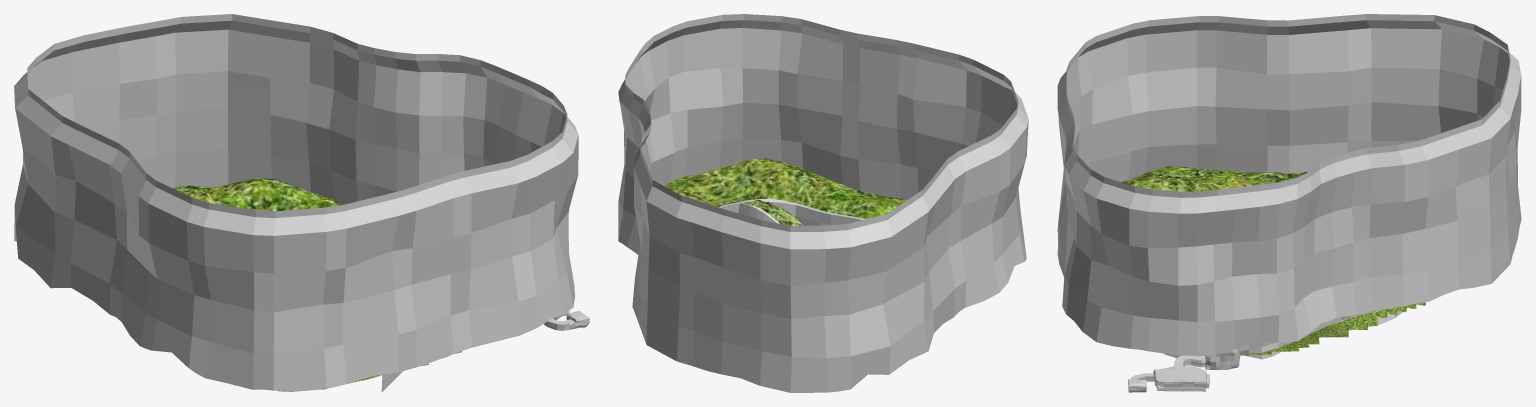
File: bigmapR.fbx
3 renders of one model, left to right at view 1: azimuth 30°, elevation 25°; view 2: azimuth 150°, elevation 25°; view 3: azimuth 270°, elevation 25°, orthographic. The views are drawn at different scales.
Visible parts, largest first — view 1: Cube.001, Cube.007; view 2: Cube.001, Cube.007, Cube.009; view 3: Cube.001, Cube.007, Plane.001.
Boxes of the visible parts, x1=… form: Cube.001: x1=14, y1=14, x2=589, y2=392; Cube.007: x1=64, y1=177, x2=342, y2=287; Cube.001: x1=618, y1=14, x2=1028, y2=392; Cube.007: x1=663, y1=158, x2=906, y2=218; Cube.009: x1=746, y1=200, x2=803, y2=225; Cube.001: x1=1057, y1=14, x2=1521, y2=392; Cube.007: x1=1121, y1=165, x2=1498, y2=276; Plane.001: x1=1165, y1=302, x2=1425, y2=355.
Bounding box in the file's own units: 44289 × 26515 × 46793.
